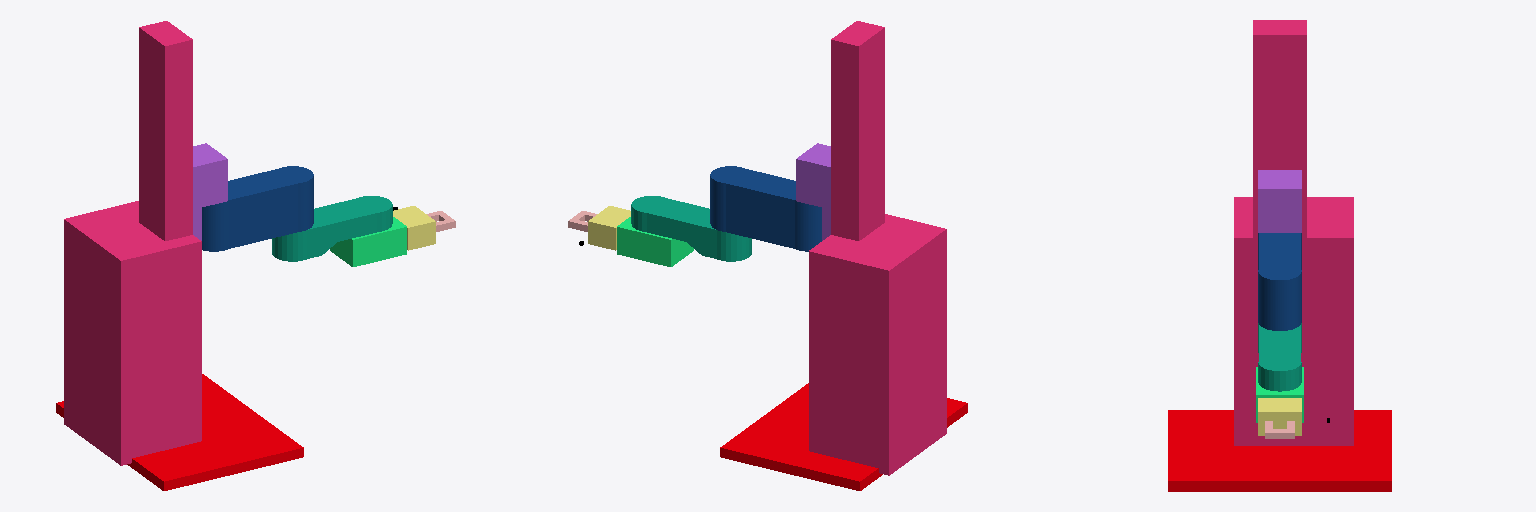
The robot description file, URDF, robot "UMI_RTX_BM14W4":
?<robot name="UMI_RTX_BM14W4" >

 <link name="base_link"> 
   <inertial>
    <origin xyz="0 0 0." rpy="0 0 0"/>
    <mass value="100"/>
    <inertia ixx="1000"  ixy="0"  ixz="0" iyy="100" iyz="0" izz="100" />
  </inertial>
<visual>
    <origin xyz="0 0 0" rpy="0 0 0" />
    <geometry>
      <box size="0.45 0.6 0.03" />
    </geometry>
    <material name="red">
      <color rgba="0.99 0.005 0.066 1.0"/>
    </material>
  </visual>
<collision>
    <origin xyz="0 0 0." rpy="0 0 0"/>
    <geometry>
      <box size="0.45 0.6 0.03" />
    </geometry>
  </collision>
</link>

 <link name="frame1"> 
<inertial>
    <origin xyz="0 -0.045 0" rpy="0 0 0"/>
    <mass value="100"/>
    <inertia ixx="1000"  ixy="0"  ixz="0" iyy="100" iyz="0" izz="100" />
  </inertial>
<visual>
<origin xyz="-0.045 0 0" rpy="0 0 -1.57079632679489662"/>
    <geometry>
      <mesh filename="package://umirtx_description/meshes/frame1.stl"/>
    </geometry>
    <material name="pink">
      <color rgba="0.962 0.222 0.511 1.0"/>
    </material>
  </visual>
<collision>
<origin xyz="-0.045 0 0" rpy="0 0 -1.57079632679489662"/>
    <geometry>
      <mesh filename="package://umirtx_description/meshes/frame1.stl"/>
    </geometry>
  </collision>
</link>

 <link name="frame2">
<inertial>
<origin xyz="0.06 0 0" rpy="0 0 0" />
    <mass value="10"/>
    <inertia ixx="1000"  ixy="0"  ixz="0" iyy="100" iyz="0" izz="100" />
  </inertial>
<visual>
<origin xyz="0.06 0 0" rpy="0 0 1.5708" />
    <geometry>
      <mesh filename="package://umirtx_description/meshes/frame2.stl"/>
    </geometry>
    <material name="purple">
      <color rgba="0.737 0.422 0.892 1.0"/>
    </material>
  </visual>
<collision>
<origin xyz="0.06 0 0" rpy="0 0 1.57079632679489662" />
    <geometry>
      <mesh filename="package://umirtx_description/meshes/frame2.stl"/>
    </geometry>
  </collision>
 </link>

 <link name="frame3">
<inertial>
<origin xyz="0 0 0" rpy="0 0 0" />
    <mass value="1"/>
    <inertia ixx="10"  ixy="0"  ixz="0" iyy="10" iyz="0" izz="10" />
  </inertial>
<visual>
<origin xyz="0.127 0 0" rpy="0 0 0" />
    <geometry>
      <mesh filename="package://umirtx_description/meshes/frame3.stl"/>
    </geometry>
    <material name="blue">
      <color rgba="0.121 0.335 0.583 1.0"/>
    </material>
  </visual>
<collision>
<origin xyz="0.127 0 0" rpy="0 0 0" />
    <geometry>
      <mesh filename="package://umirtx_description/meshes/frame3.stl"/>
    </geometry>
  </collision>
 </link>

 <link name="frame4">
<inertial>
<origin xyz="0 0 0" rpy="0 0 0" />
    <mass value="1"/>
    <inertia ixx="10"  ixy="0"  ixz="0" iyy="10" iyz="0" izz="10" />
  </inertial>
<visual>
<origin xyz="0.127 0 -0.09" rpy="0 0 0" />
    <geometry>
     <mesh filename="package://umirtx_description/meshes/frame4.stl"/>
    </geometry>
    <material name="cyan">
      <color rgba="0.088 0.694 0.57 1.0"/>
    </material>
  </visual>
<collision>
<origin xyz="0.127 0 -0.09" rpy="0 0 0" />
    <geometry>
     <mesh filename="package://umirtx_description/meshes/frame4.stl"/>
    </geometry>
  </collision>
 </link>

 <link name="frame5">
<inertial>
<origin xyz="0 0 0" rpy="0 0 0" />
    <mass value="1"/>
    <inertia ixx="10"  ixy="0"  ixz="0" iyy="10" iyz="0" izz="10" />
  </inertial>
<visual>
<origin xyz="-0.0105 0 0" rpy="0 0 0" />
    <geometry>
     <mesh filename="package://umirtx_description/meshes/frame5.stl"/>
    </geometry>
    <material name="lightgreen">
      <color rgba="0.165 0.994 0.555 1.0"/>
    </material>
  </visual>
<collision>
<origin xyz="-0.0105 0 0" rpy="0 0 0" />
    <geometry>
     <mesh filename="package://umirtx_description/meshes/frame5.stl"/>
    </geometry>
  </collision>
 </link>

 <link name="frame6">
<inertial>
<origin xyz="-0.0105 0 0" rpy="0 0 0" />
    <mass value="1"/>
    <inertia ixx="10"  ixy="0"  ixz="0" iyy="10" iyz="0" izz="10" />
  </inertial>
<visual>
<origin xyz="0 0 -0.035" rpy="0 0 1.57079632679489662" />
    <geometry>
     <mesh filename="package://umirtx_description/meshes/frame6.stl"/>
    </geometry>
    <material name="lightyellow">
      <color rgba="0.97 0.947 0.535 1.0"/>
    </material>
  </visual>
<collision>
<origin xyz="0 0 -0.035" rpy="0 0 1.57079632679489662" />
    <geometry>
     <mesh filename="package://umirtx_description/meshes/frame6.stl"/>
    </geometry>
  </collision>
 </link>

<link name="frame7B">
<inertial>
<origin xyz="0 0 0" rpy="0 0 0" />
    <mass value="1"/>
    <inertia ixx="10"  ixy="0"  ixz="0" iyy="10" iyz="0" izz="10" />
  </inertial>
<visual>
<origin xyz="0.093 0.01 -0.03" rpy="1.57079632679489662 0 0" />
    <geometry>
     <mesh filename="package://umirtx_description/meshes/frame7.stl"/>
    </geometry>
    <material name="lightskin">
      <color rgba="0.983 0.744 0.742 1.0"/>
    </material>
  </visual>
<collision>
<origin xyz="0 0.03 0" rpy="1.57079632679489662 0 0" />
    <geometry>
     <mesh filename="package://umirtx_description/meshes/frame7.stl"/>
    </geometry>
  </collision>
 </link>

<link name="frametip">
<inertial>
<origin xyz="0 0 0" rpy="0 0 0" />
    <mass value="0.001"/>
    <inertia ixx="1"  ixy="0"  ixz="0" iyy="1" iyz="0" izz="10" />
  </inertial>
<visual>
<origin xyz="0.0 0.00 0.0" rpy="0 0 0" />
    <geometry>
    <box size="0.01 0.01 0.01" />
    </geometry>
    <material name="Black">
      <color rgba="0.0 0.0 0.0 1.0"/>
    </material>
  </visual>
<collision>
<origin xyz="0 0.0 0.0" rpy="1.57079632679489662 0 0" />
    <geometry>
    <box size="0.01 0.01 0.01" />
    </geometry>
  </collision>
 </link>

<link name="frame7A">
<inertial>
<origin xyz="0 0 0" rpy="0 0 0" />
    <mass value="1"/>
    <inertia ixx="10"  ixy="0"  ixz="0" iyy="10" iyz="0" izz="10" />
  </inertial>
<visual>
<origin xyz="0.093 -0.01 0.03" rpy="-1.57079632679489662 0 0" />
    <geometry>
     <mesh filename="package://umirtx_description/meshes/frame7.stl"/>
    </geometry>
    <material name="lightskin">
      <color rgba="0.983 0.744 0.742 1.0 1.0"/>
    </material>
  </visual>
<collision>
<origin xyz="0 0.03 0" rpy="1.57079632679489662 0 0" />
    <geometry>
     <mesh filename="package://umirtx_description/meshes/frame7.stl"/>
    </geometry>
  </collision>
 </link>

<link name="jointhelper">
<inertial>
<origin xyz="0 0 0" rpy="0 0 0" />
    <mass value="1"/>
    <inertia ixx="10"  ixy="0"  ixz="0" iyy="10" iyz="0" izz="10" />
  </inertial>
<visual>
<origin xyz="0.0 0 0" rpy="0 0 0" />
    <geometry>
     <cylinder length="0.01" radius="0.01"/>
    </geometry>
    <material name="Cyan">
      <color rgba="0 1.0 1.0 1.0"/>
    </material>
  </visual>
<collision>
<origin xyz="0 0 0" rpy="0 0 0" />
    <geometry>
     <cylinder length="0.01" radius="0.01"/>
    </geometry>
  </collision>
 </link>

<joint name="base_joint" type="fixed">
   <origin xyz="0 0 0" rpy="0 0 0"/>
   <parent link="base_link"/>
   <child link="frame1"/>
</joint>

<joint name="joint1" type="prismatic">
   <origin xyz="0.0 0 0" rpy="0 0 0"/>
   <parent link="frame1"/>
   <child link="frame2"/>
   <axis xyz="0 0 1" />
<dynamics damping="0.1" friction="0.01"/>
<limit effort="3" velocity="1.0" lower="0.1" upper="1" />
<safety_controller k_velocity="10" k_position="15" soft_lower_limit="0.2" soft_upper_limit="0.95" />
</joint>

<joint name="joint2" type="revolute">
   <origin xyz="0.1088 0 0" rpy="0 0 0"/>
   <parent link="frame2"/>
   <child link="frame3"/>
   <axis xyz="0 0 1" />
<calibration rising="0.1"/>
<dynamics damping="0.05" friction="0.1"/>
<limit effort="3" velocity="1.0" lower="-3.14" upper="3.14" />
<safety_controller k_velocity="10" k_position="15" soft_lower_limit="-1.9" soft_upper_limit="1.9" />
</joint>

<joint name="joint3" type="revolute">
<origin xyz="0.254 0 0" rpy="0 0 0" />
   <parent link="frame3"/>
   <child link="frame4"/>
   <axis xyz="0 0 1" />
<calibration rising="0.1"/>
<dynamics damping="0.05" friction="0.1"/>
<limit effort="3" velocity="1.0" lower="-3.14" upper="3.14" />
<safety_controller k_velocity="10" k_position="15" soft_lower_limit="-3.1" soft_upper_limit="3.1" />
</joint>

<joint name="joint4" type="revolute">
<origin xyz="0.254 0 -0.1025" rpy="0 0 0" />
   <parent link="frame4"/>
   <child link="frame5"/>
   <axis xyz="0 0 1" />
<calibration rising="0.1"/>
<dynamics damping="0.05" friction="0.1"/>
<limit effort="3" velocity="1.0" lower="-3.14" upper="3.14" />
<safety_controller k_velocity="10" k_position="15" soft_lower_limit="-3.1" soft_upper_limit="3.1" />
</joint>

<joint name="joint5" type="revolute">
<origin xyz="0 0 0" rpy="1.57079632679489662 0 0" />
   <parent link="frame5"/>
   <child link="jointhelper"/>
   <axis xyz="0 0 1" />
<calibration rising="0.1"/>
<dynamics damping="0.05" friction="0.1"/>
<limit effort="3" velocity="1.0" lower="-1.6" upper="0.5" />
<safety_controller k_velocity="10" k_position="15" soft_lower_limit="-1.57079632679489662" soft_upper_limit="0" />
</joint>

<joint name="joint6" type="revolute">
<origin xyz="0.117 0 0" rpy="0 1.57079632679489662 0" />
   <parent link="jointhelper"/>
   <child link="frame6"/>
   <axis xyz="0 0 1" />
<calibration rising="0.1"/>
<dynamics damping="0.05" friction="0.1"/>
<limit effort="3" velocity="1.0" lower="-1.7" upper="1.7" />
<safety_controller k_velocity="10" k_position="15" soft_lower_limit="-1.57079632679489662" soft_upper_limit="1.57079632679489662" />
</joint>

<joint name="joint7A" type="prismatic">
   <origin xyz="0 0 0" rpy="0 -1.57079632679489662 0"/>
   <parent link="frame6"/>
   <child link="frame7A"/>
   <axis xyz="0 0 1" />
<dynamics damping="0.1" friction="0.01"/>
<limit effort="3" velocity="1.0" lower="-0.01" upper="0.03" />
<safety_controller k_velocity="10" k_position="15" soft_lower_limit="0.0" soft_upper_limit="0.02" />
</joint>

<joint name="joint7B" type="prismatic">
   <origin xyz="0 0 0" rpy="0 -1.57079632679489662 0"/>
   <parent link="frame6"/>
   <child link="frame7B"/>
   <axis xyz="0 0 1" />
<dynamics damping="0.1" friction="0.01"/>
<limit effort="3" velocity="1.0" lower="-0.03" upper="0.01" />
<safety_controller k_velocity="10" k_position="15" soft_lower_limit="-0.2" soft_upper_limit="0" />
</joint>

<joint name="jointtip" type="fixed">
<origin xyz="0.130 0.0 0.035" rpy="0 0 0" />
   <parent link="frame6"/>
   <child link="frametip"/>
   <axis xyz="0 0 1" />
<calibration rising="0.1"/>
<dynamics damping="0.05" friction="0.1"/>
<limit effort="3" velocity="1.0" lower="-3.14" upper="3.14" />
<safety_controller k_velocity="10" k_position="15" soft_lower_limit="-3.1" soft_upper_limit="3.1" />
</joint>

</robot>

--- Render facts (derived) ---
The picture shows the robot from 3 angles, left to right: view 1: azimuth 30°, elevation 25°; view 2: azimuth 150°, elevation 25°; view 3: azimuth 270°, elevation 25°; orthographic projection.
Robot: UMI_RTX_BM14W4 — 11 links, 10 joints (5 revolute, 3 prismatic, 2 fixed); root link base_link; default pose: all joints at 0 but 1 set to mid-range because 0 is outside their limits (joint1 = 0.55).
Links seen in each view (by area): view 1: frame1, base_link, frame3, frame4, frame2, frame5, frame6; view 2: frame1, base_link, frame3, frame4, frame2, frame5, frame6; view 3: frame1, base_link, frame3, frame2, frame4, frame6, frame5.
Link boxes in pixels (x1,y1,x2,y2): frame1: (64,21,201,465); base_link: (56,374,303,490); frame3: (202,166,313,251); frame4: (272,196,392,261); frame2: (193,143,227,240); frame5: (330,217,406,266); frame6: (393,206,435,250); frame1: (809,21,946,475); base_link: (720,383,967,490); frame3: (710,166,821,251); frame4: (631,196,751,261); frame2: (796,143,830,240); frame5: (617,217,693,266); frame6: (588,206,630,250); frame1: (1234,20,1353,445); base_link: (1168,410,1391,491); frame3: (1258,233,1301,330); frame2: (1258,170,1301,232); frame4: (1258,323,1301,391); frame6: (1258,398,1301,435); frame5: (1256,367,1303,422).
Size in the robot's own frame: 1.12 by 0.6 by 1.25 metres.
Meshes: 7 distinct files referenced, 8 mesh visuals loaded (7 binary STL).
